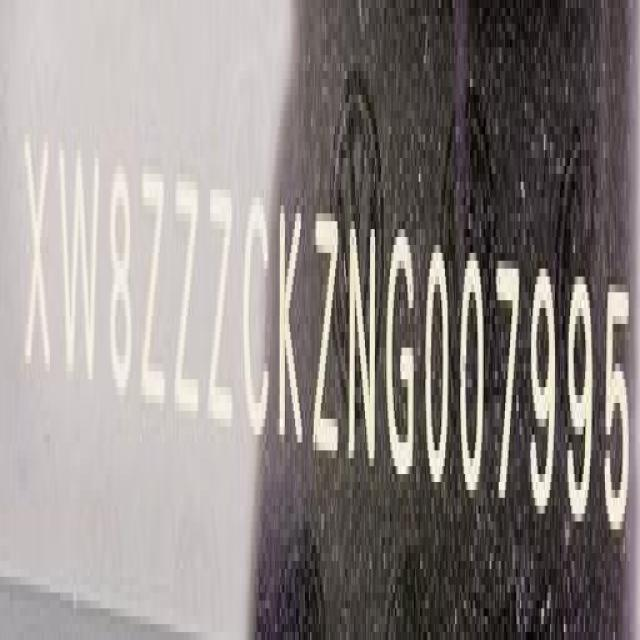0: (456, 245, 486, 502), (424, 237, 452, 496)
5: (605, 271, 633, 543)
7: (494, 245, 523, 520)
8: (110, 159, 135, 409)
9: (529, 259, 559, 526), (567, 268, 596, 536)
C: (242, 187, 270, 454)
G: (384, 226, 416, 494)
K: (277, 191, 306, 457)
N: (348, 211, 378, 480)
W: (59, 127, 101, 400)
X: (24, 117, 55, 393)
Z: (312, 195, 342, 473), (208, 172, 237, 440), (174, 165, 203, 432), (139, 156, 166, 423)
